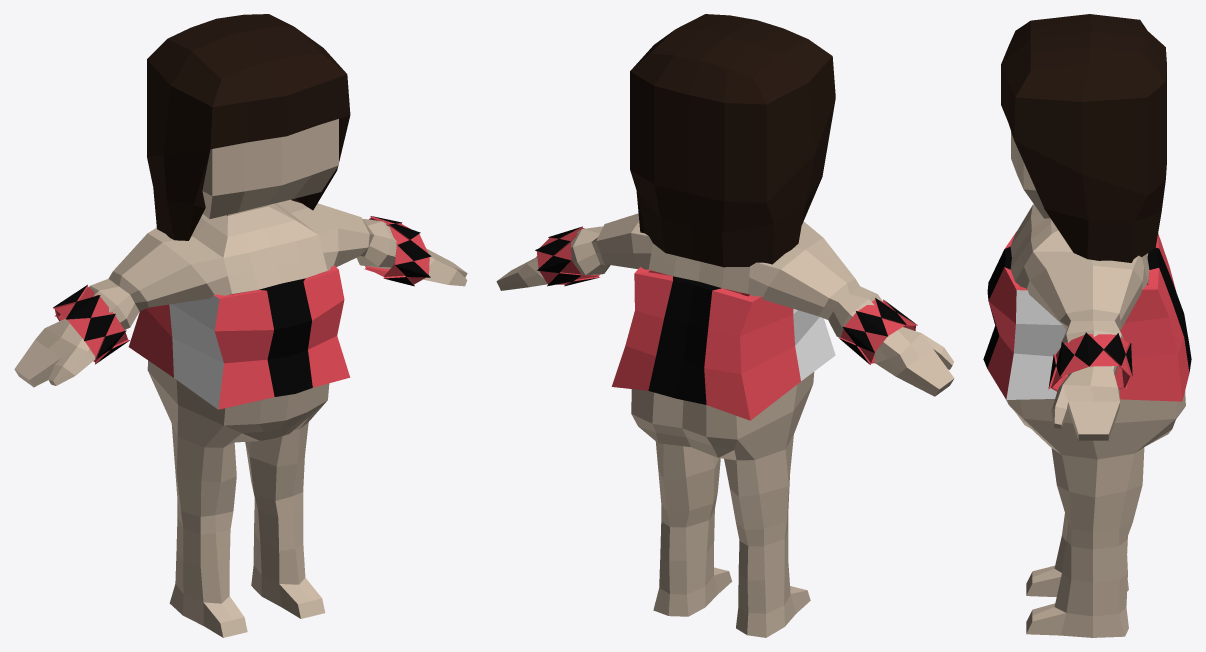
The model's file is MaoriMulherSemSaia.fbx.
The picture shows the model from 3 angles, left to right: view 1: azimuth 30°, elevation 25°; view 2: azimuth 150°, elevation 25°; view 3: azimuth 270°, elevation 25°; orthographic projection.
Visible parts, largest first — view 1: Corpo, Cabelo.001, Sutia, Bracelete; view 2: Corpo, Cabelo.001, Sutia, Bracelete; view 3: Corpo, Cabelo.001, Sutia, Bracelete.
Boxes of the visible parts, x1,y1,x2,y2 form: Corpo: [14, 119, 467, 637]; Cabelo.001: [147, 14, 350, 240]; Sutia: [128, 265, 350, 409]; Bracelete: [53, 216, 431, 364]; Corpo: [496, 213, 954, 637]; Cabelo.001: [630, 14, 835, 267]; Sutia: [611, 267, 835, 420]; Bracelete: [535, 226, 917, 364]; Corpo: [1006, 131, 1185, 637]; Cabelo.001: [1001, 14, 1166, 262]; Sutia: [983, 231, 1191, 401]; Bracelete: [1048, 332, 1132, 391].
Bounding box in the file's own units: 429 × 533 × 174.
